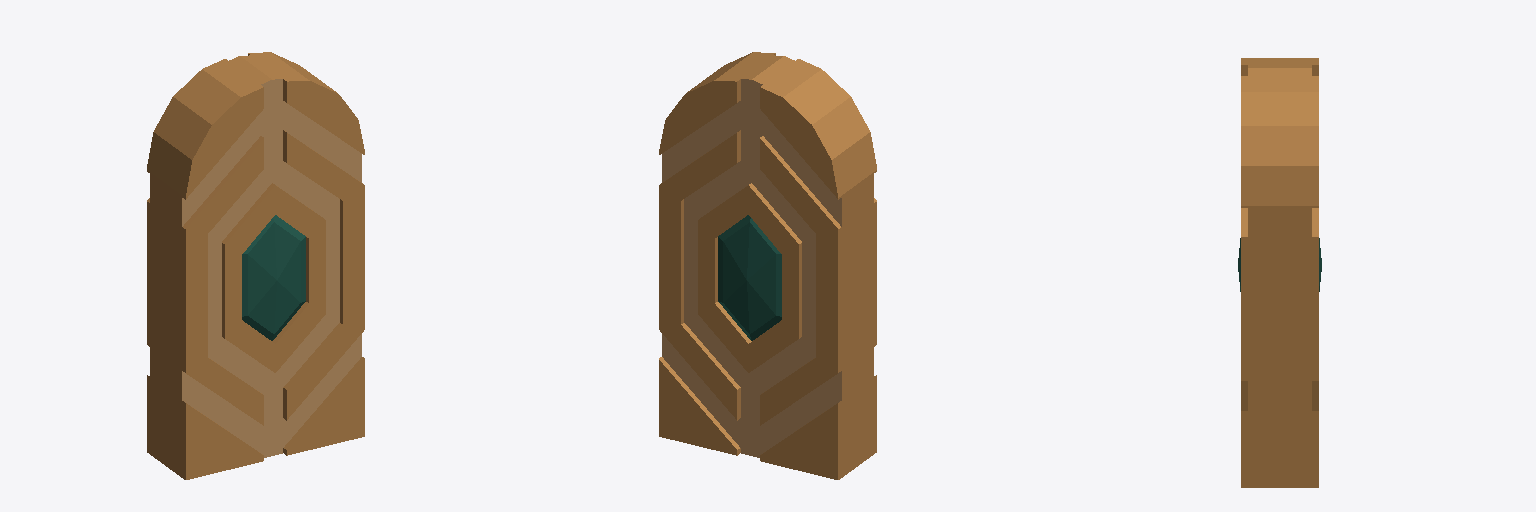
File: Wall_Straight_Door.obj
3 views of the same model, side by side, from view 1: azimuth 30°, elevation 25°; view 2: azimuth 150°, elevation 25°; view 3: azimuth 270°, elevation 25° (orthographic).
Visible parts, largest first — view 1: object2, object1; view 2: object2, object1; view 3: object2.
Boxes of the visible parts, <box> form: object2: <box>147,52,364,479</box>; object1: <box>242,215,305,340</box>; object2: <box>659,52,876,479</box>; object1: <box>718,215,781,340</box>; object2: <box>1241,58,1318,487</box>.
Bounding box in the file's own units: 0.8 × 1.6 × 0.325.